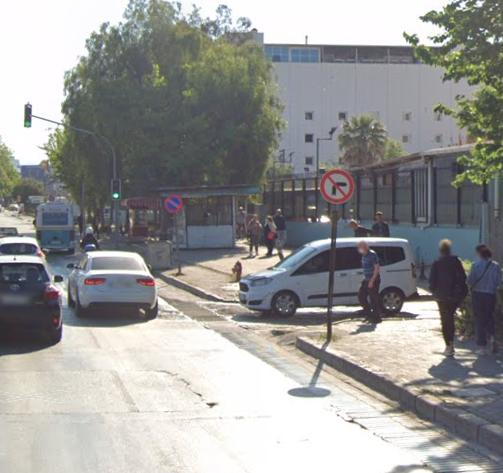greenlight: (23, 104, 32, 129), (111, 178, 120, 199)
rightturnsareforbidden: (323, 170, 352, 203)
